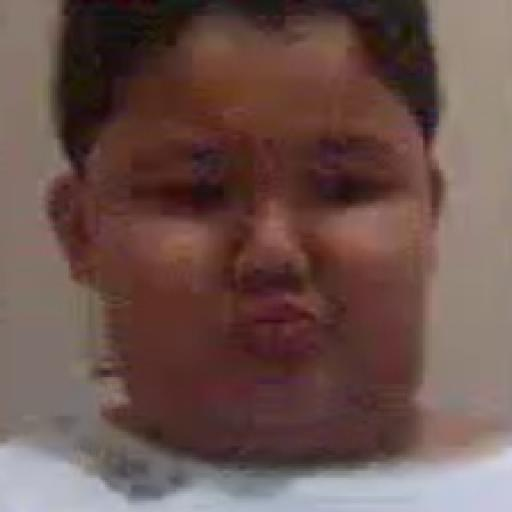Autism: (94, 21, 478, 435)
